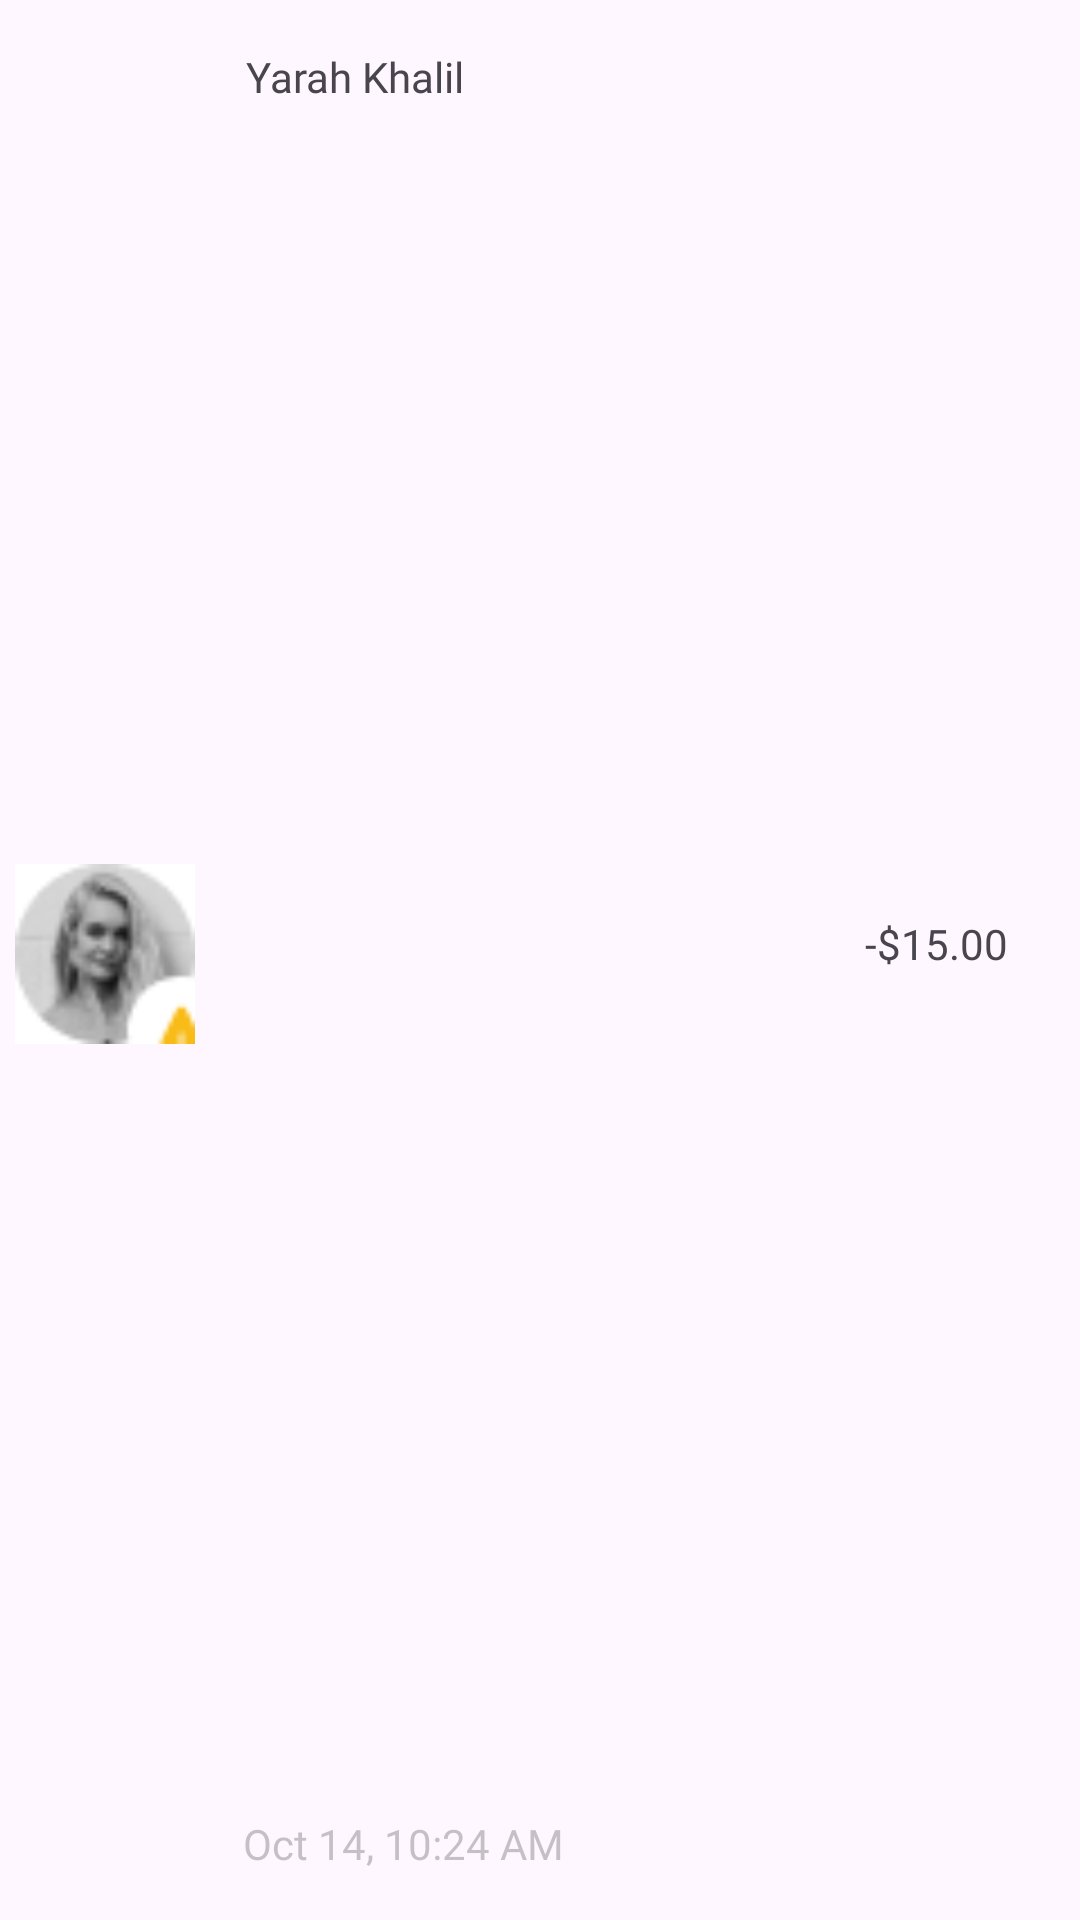

Named icons in this screenshot (1080×1920) and their bounding boxes, box(x1, y1, x2, y2):
profile: box(15, 864, 195, 1044)
